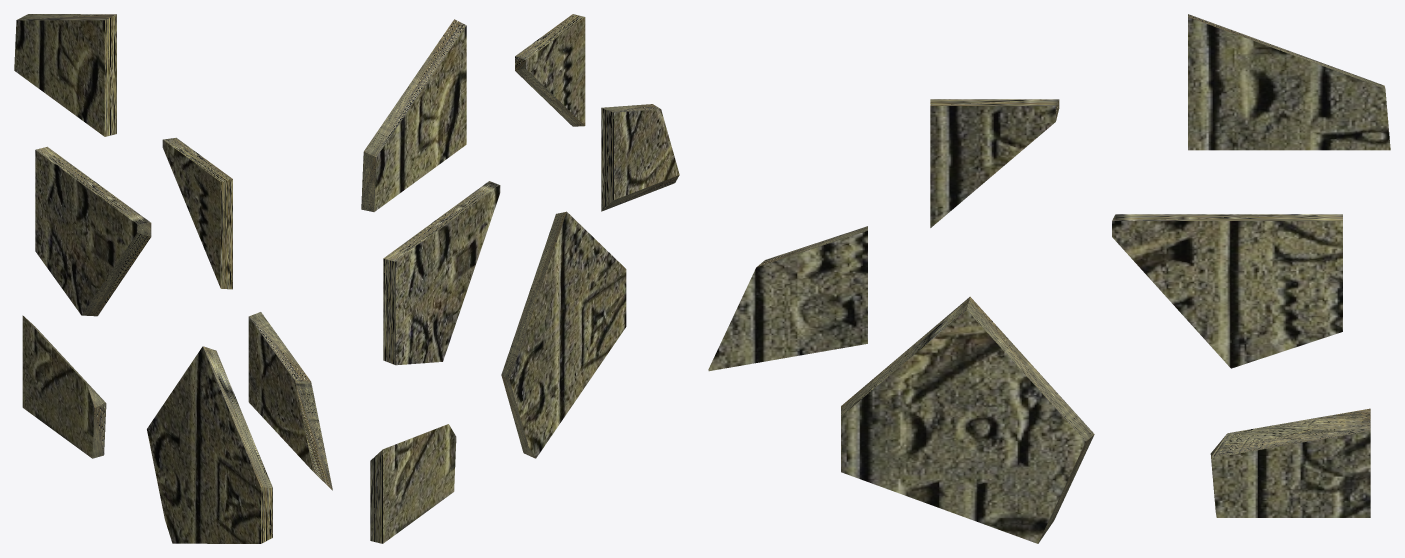
3 views of the same model, side by side, from view 1: azimuth 30°, elevation 25°; view 2: azimuth 150°, elevation 25°; view 3: azimuth 270°, elevation 25° (orthographic). The views are drawn at different scales.
Parts seen in each view (by area): view 1: tablette_4, tablette_5, tablette_2, tablette_3, tablette_1, tablette_6; view 2: tablette_4, tablette_5, tablette_2, tablette_1, tablette_3, tablette_6; view 3: tablette_4, tablette_5, tablette_2, tablette_1, tablette_3, tablette_6.
Boxes of the visible parts, <box> form: tablette_4: <box>147,346,272,543</box>; tablette_5: <box>35,146,151,316</box>; tablette_2: <box>14,14,116,136</box>; tablette_3: <box>248,312,332,490</box>; tablette_1: <box>22,315,106,458</box>; tablette_6: <box>162,137,232,289</box>; tablette_4: <box>501,211,626,458</box>; tablette_5: <box>383,181,500,365</box>; tablette_2: <box>361,19,466,211</box>; tablette_1: <box>370,424,456,543</box>; tablette_3: <box>601,104,679,211</box>; tablette_6: <box>515,14,585,126</box>; tablette_4: <box>841,296,1094,543</box>; tablette_5: <box>1112,214,1342,368</box>; tablette_2: <box>1188,14,1390,150</box>; tablette_1: <box>1210,408,1370,517</box>; tablette_3: <box>708,226,867,371</box>; tablette_6: <box>930,99,1059,227</box>.
Size of the model in its own units: 277 by 10332 by 12050.
1 material, 1 textured.
